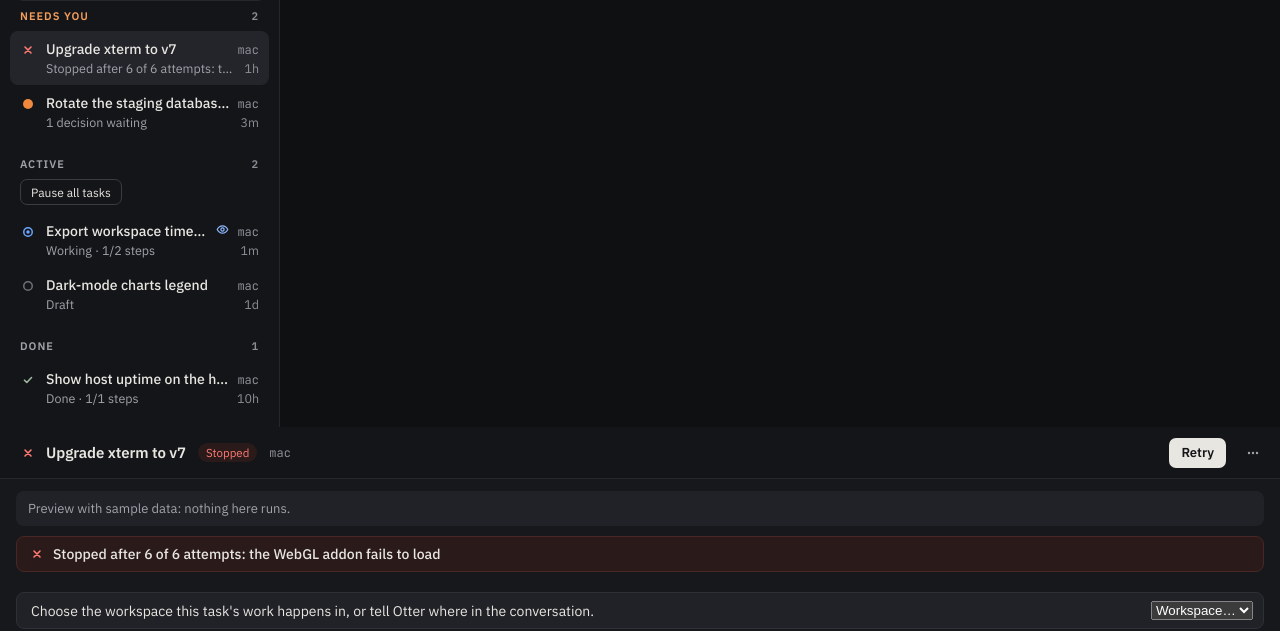
Test case: Tasks view › tells you and Otter apart by the bubble, the coding agent by name too (D-175)
The image size is (1280, 631).
Click the list item "Export workspace timeline as CSV mac Working · 1/2 steps 1m" at (140,240), box [10, 213, 269, 267]
(page scrolled)
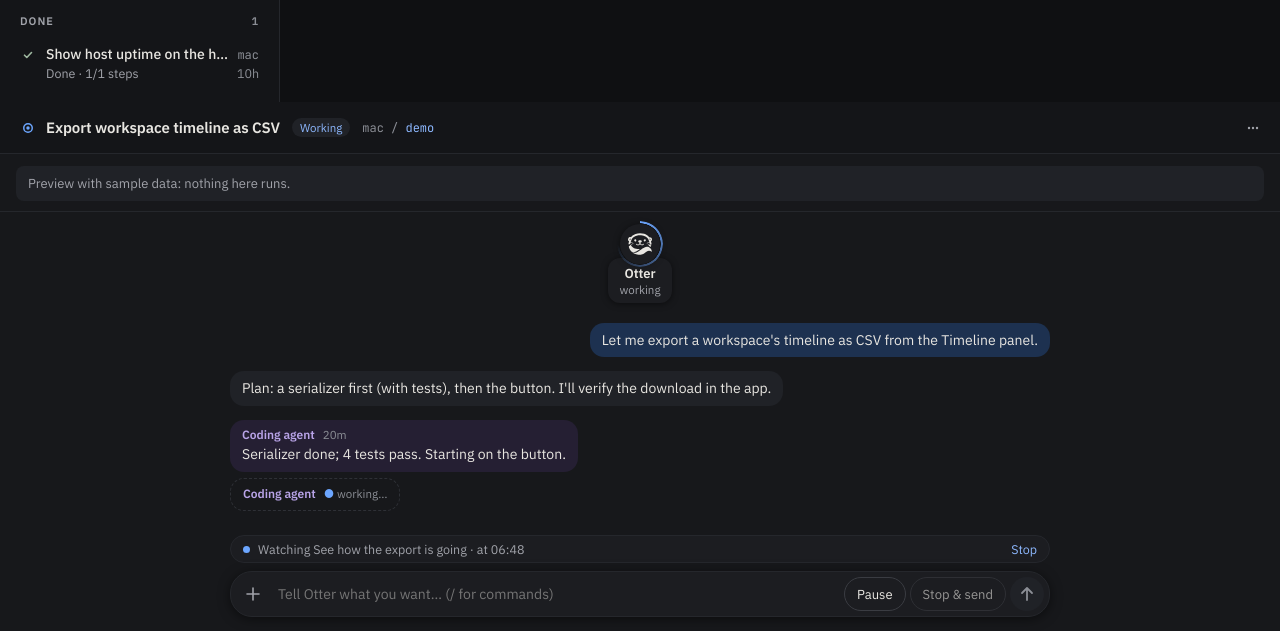
Expected: the text with class "message-role" next to "20m" reads "Coding agent", [242, 427, 315, 442]
